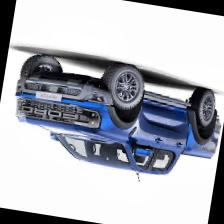NON-EV: (5, 48, 224, 195)
